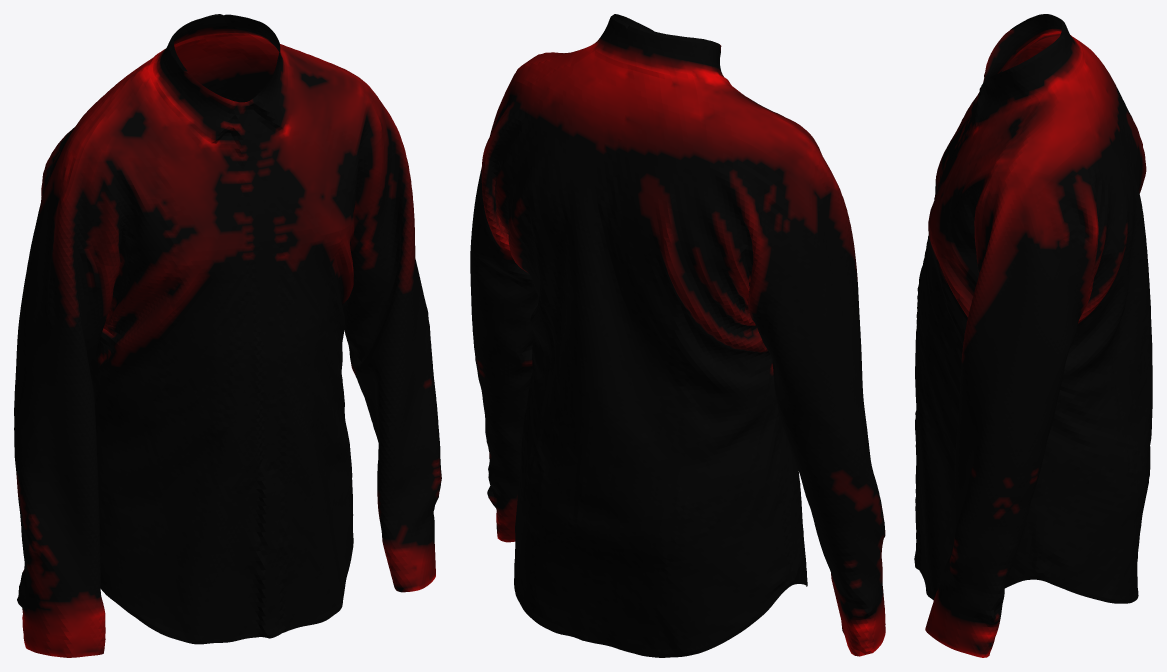
File: heatMap.obj
The picture shows the model from 3 angles, left to right: view 1: azimuth 30°, elevation 25°; view 2: azimuth 150°, elevation 25°; view 3: azimuth 270°, elevation 25°; orthographic projection. The views are drawn at different scales.
Bounding box in the file's own units: 22.77 × 31.5 × 12.4.
